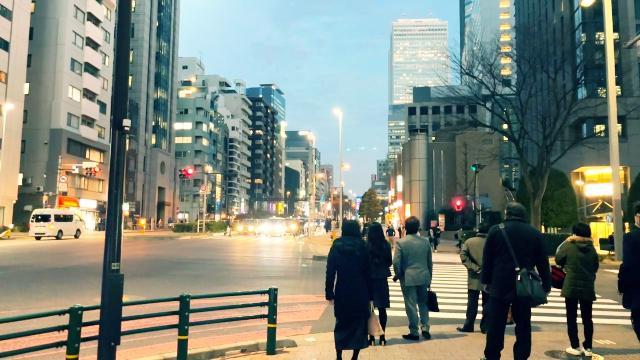berdiri: (478, 200, 546, 360), (319, 212, 379, 360), (390, 211, 440, 347), (554, 219, 602, 359), (457, 215, 499, 335)
